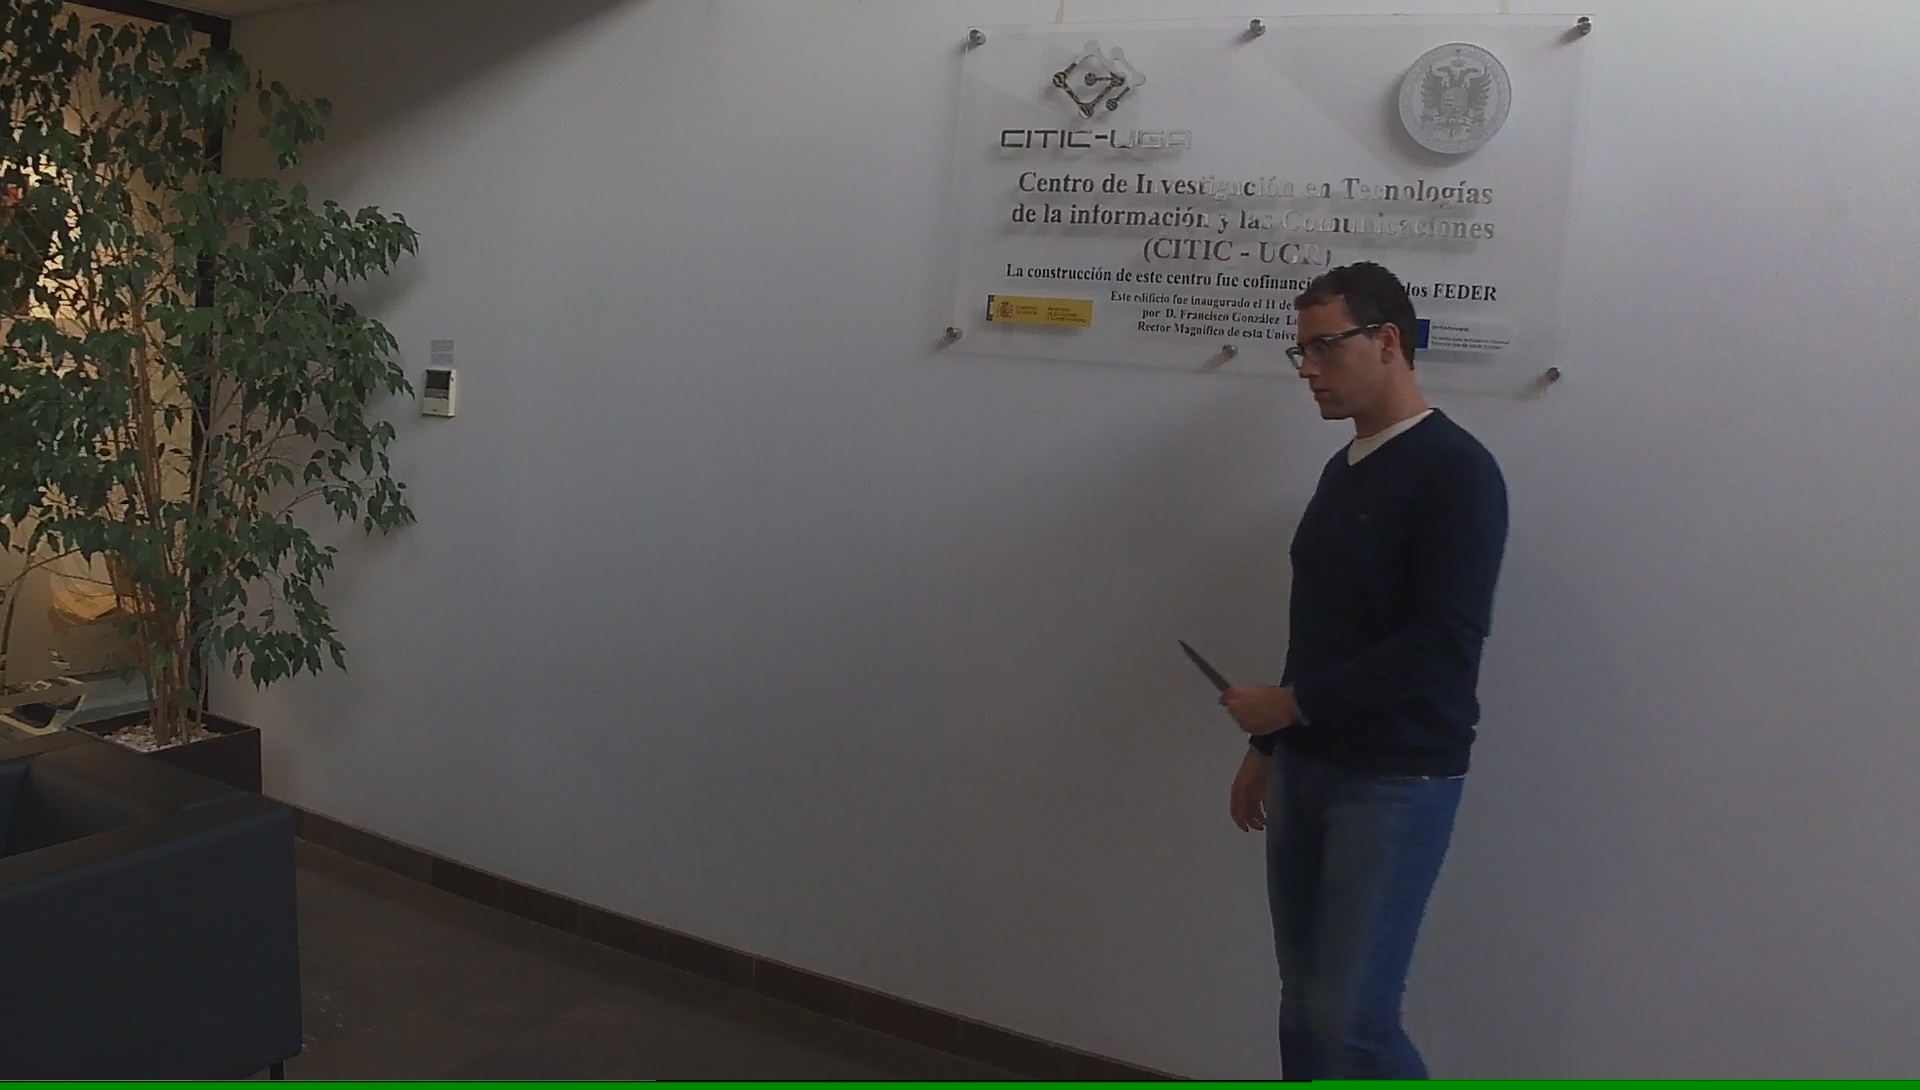knife: (1170, 631, 1262, 725)
